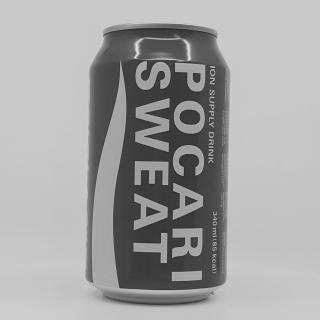alumunium_can: (80, 17, 238, 305)
